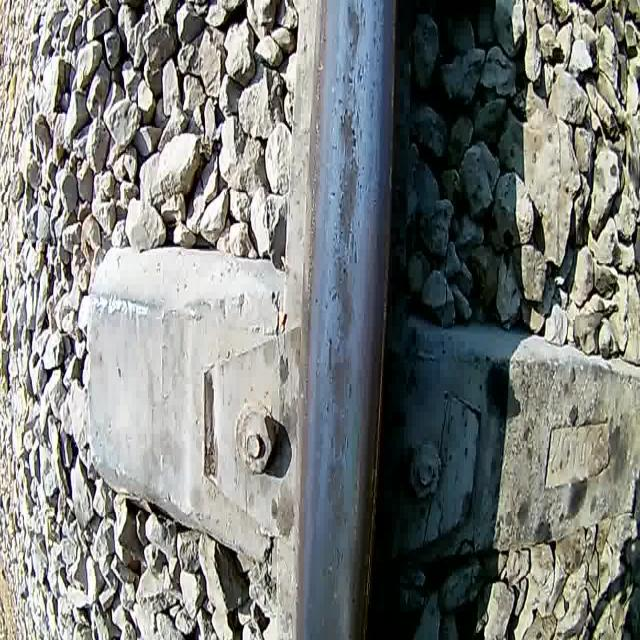Squats: (334, 103, 362, 255), (325, 335, 356, 459), (329, 250, 358, 342), (322, 452, 351, 532), (339, 1, 365, 61)
